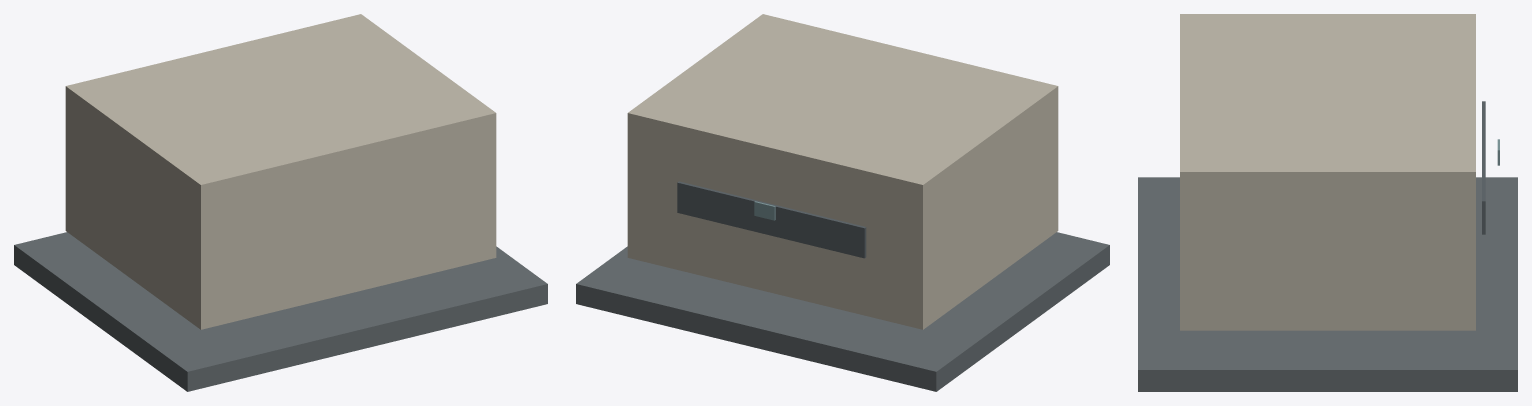
File: iz3_health_emergency_01.glb
3 views of the same model, side by side, from view 1: azimuth 30°, elevation 25°; view 2: azimuth 150°, elevation 25°; view 3: azimuth 270°, elevation 25° (orthographic). The views are drawn at different scales.
Parts seen in each view (by area): view 1: cabinet, base; view 2: cabinet, base, panel; view 3: cabinet, base, panel.
Boxes of the visible parts, box(x1,y1,x2,y2) form: cabinet: box(65, 14, 496, 329); base: box(14, 232, 547, 391); cabinet: box(627, 14, 1058, 329); base: box(576, 232, 1109, 391); panel: box(677, 181, 866, 258); cabinet: box(1180, 14, 1475, 330); base: box(1138, 177, 1517, 391); panel: box(1482, 101, 1485, 234).
Bounding box in the file's own units: 6 × 2.94 × 5.
